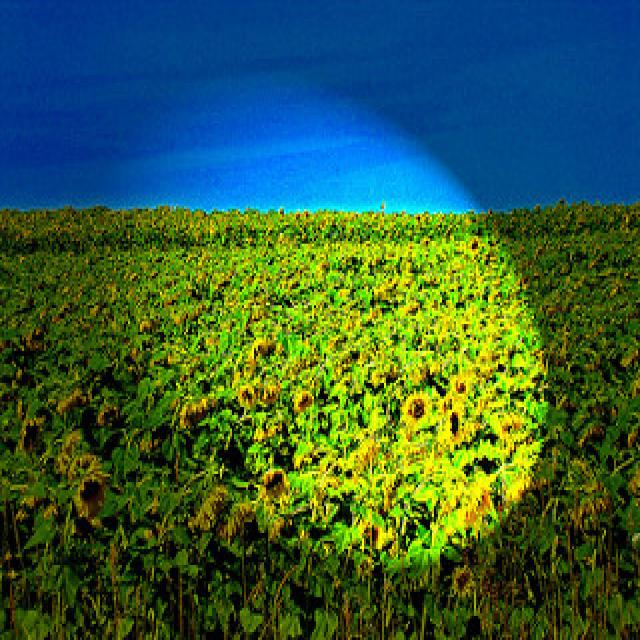sunflower: (62, 463, 114, 528), (190, 482, 230, 541), (252, 461, 292, 514), (442, 394, 466, 461), (400, 391, 434, 434), (442, 565, 480, 603), (230, 380, 260, 415), (290, 383, 314, 420), (464, 233, 486, 260)
